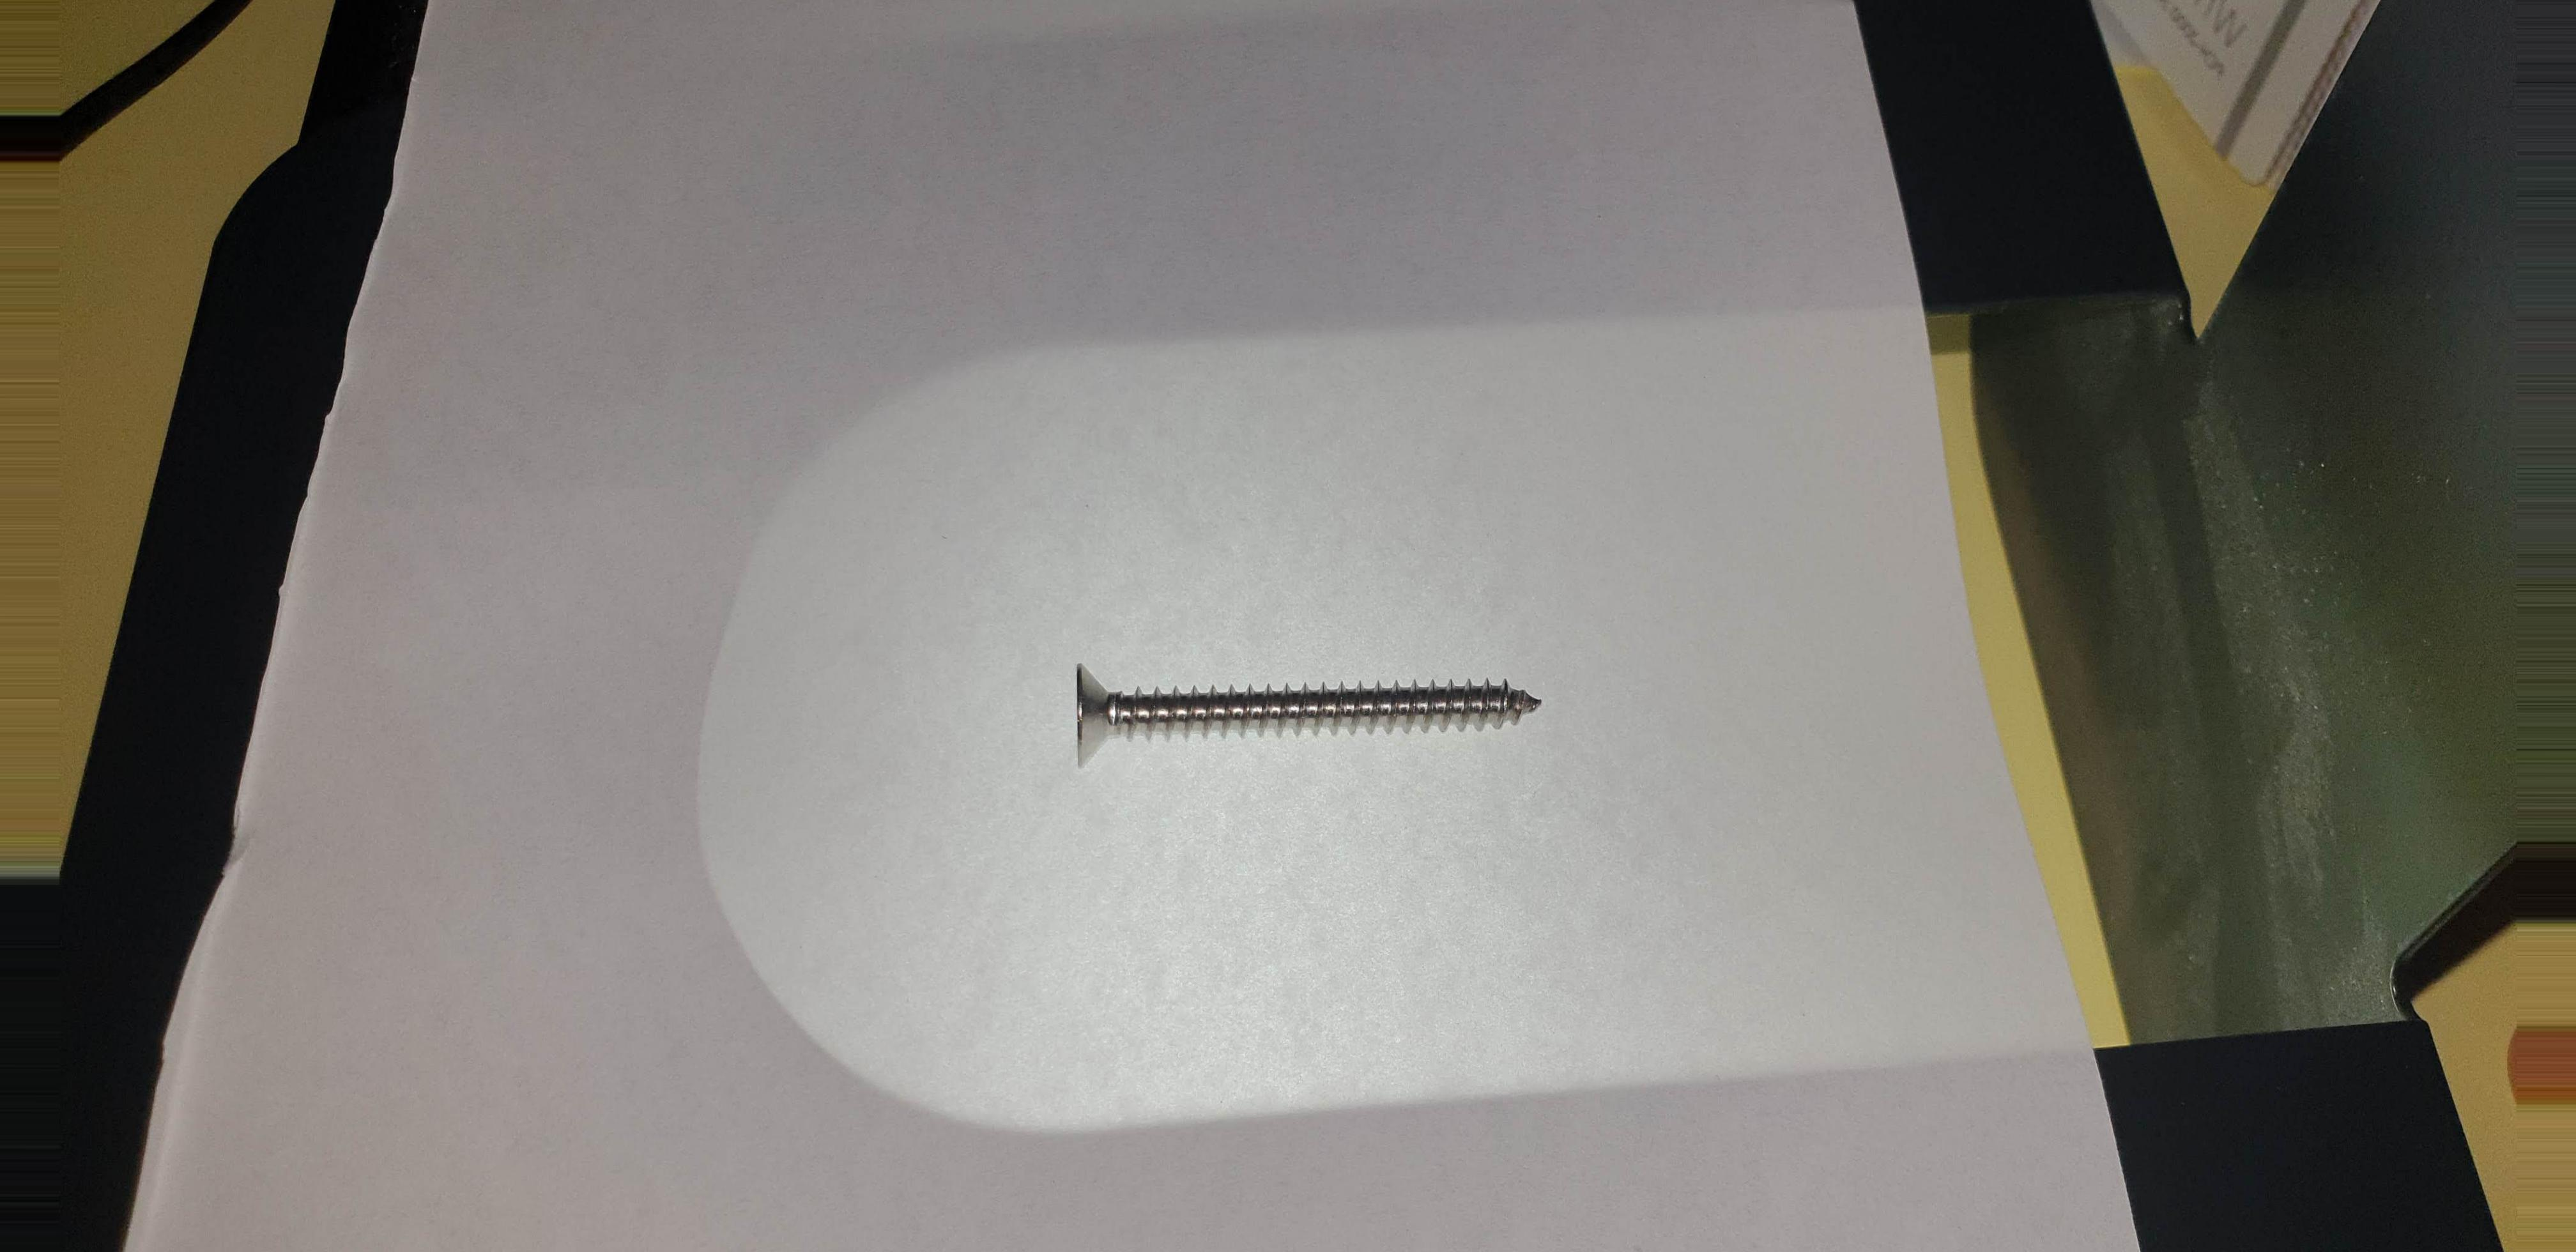fastener: (1038, 603, 1582, 789)
